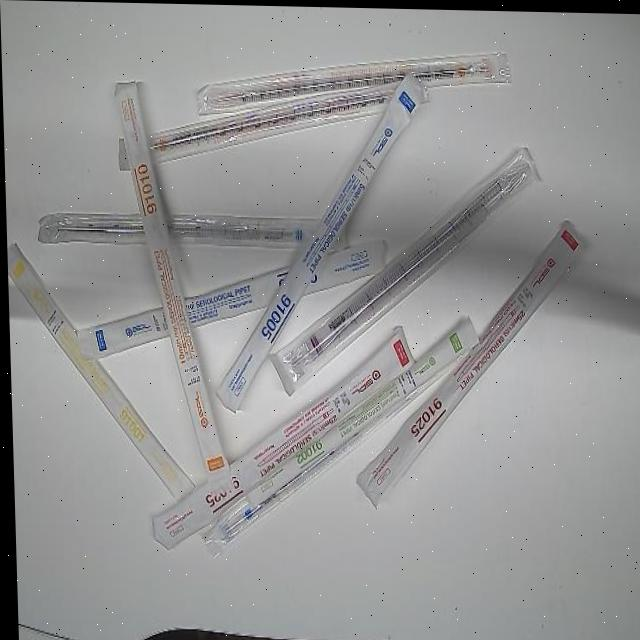Serelogical Pipet 1 mL - Sealed: (6, 238, 198, 502)
Serelogical Pipet 10 mL - Sealed: (112, 79, 235, 493), (113, 67, 433, 178), (182, 40, 513, 123)
Serelogical Pipet 2 mL - Sealed: (237, 308, 483, 515)
Serelogical Pipet 25 mL - Sealed: (346, 209, 593, 513), (139, 320, 421, 557)
Serelogical Pipet 5 mL - Sealed: (203, 66, 439, 418), (193, 340, 469, 561), (70, 230, 391, 367), (34, 210, 351, 253)
Serelogical Pipet 50 mL - Sealed: (262, 139, 551, 400)
